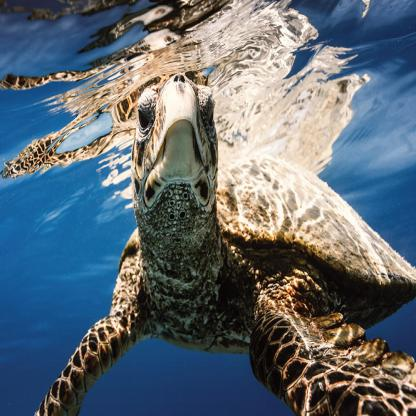turtle: (127, 66, 224, 240)
